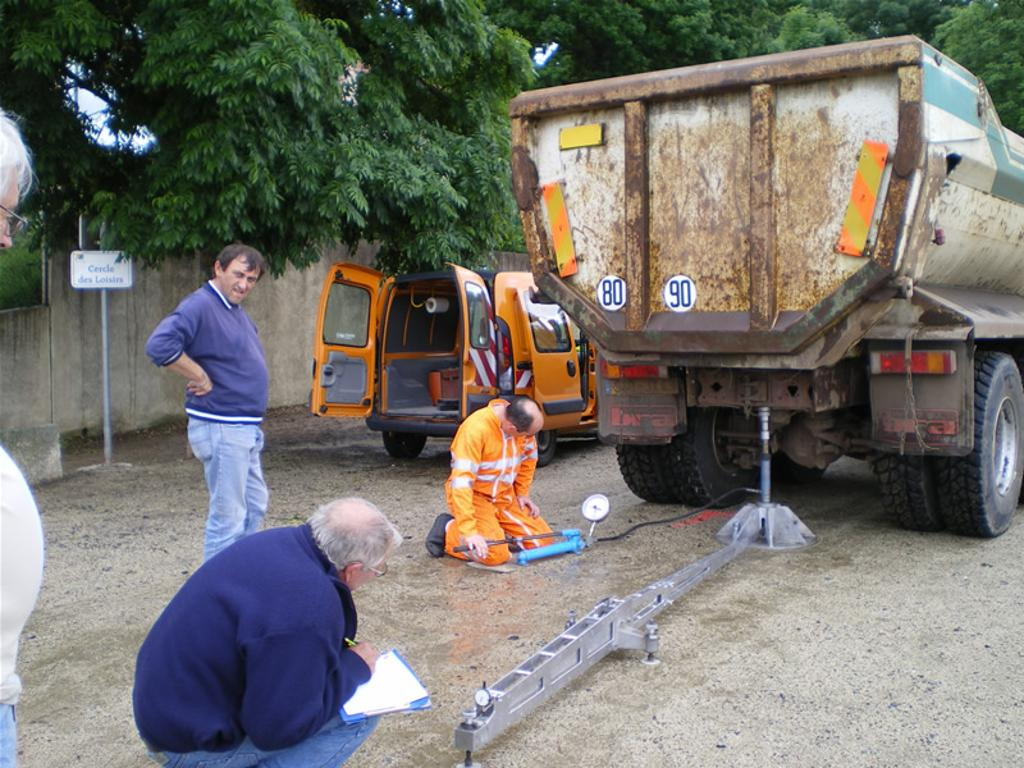face: (347, 541, 399, 592), (219, 256, 259, 303), (1, 162, 20, 251), (512, 425, 541, 441)
